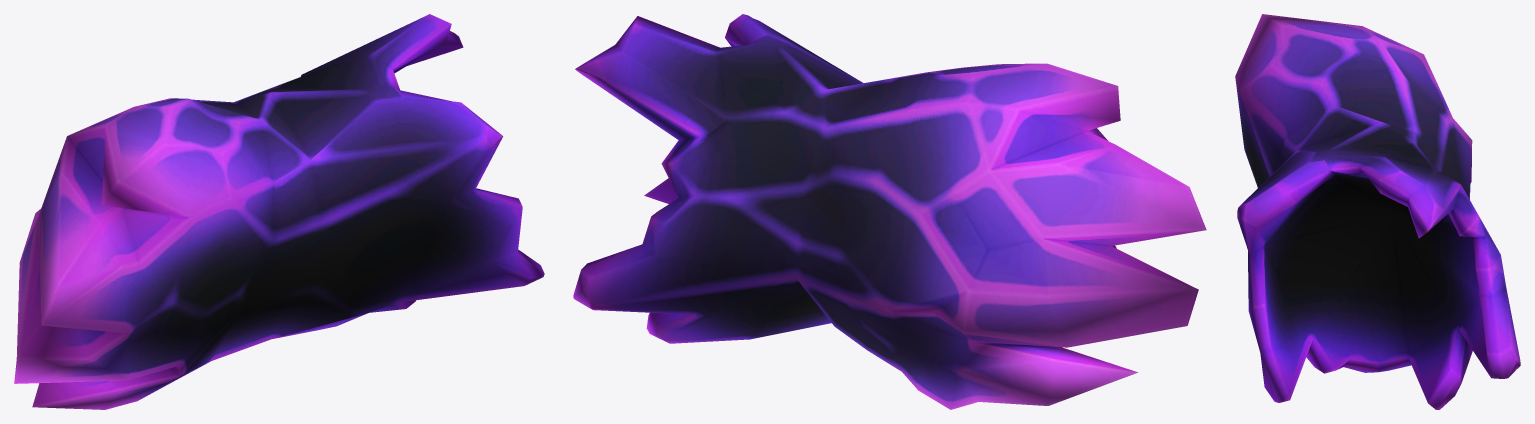
File: item_weaknumgm2501-et01.glb
The picture shows the model from 3 angles, left to right: view 1: azimuth 30°, elevation 25°; view 2: azimuth 150°, elevation 25°; view 3: azimuth 270°, elevation 25°; orthographic projection. The views are drawn at different scales.
Visible parts, largest first — view 1: FlyffMesh; view 2: FlyffMesh; view 3: FlyffMesh.
Boxes of the visible parts, <box> form: FlyffMesh: <box>14,14,544,409</box>; FlyffMesh: <box>573,14,1206,409</box>; FlyffMesh: <box>1235,14,1520,409</box>.
Bounding box in the file's own units: 0.6683 × 0.3619 × 0.3364.
Materials: 1 (1 with a texture image).
